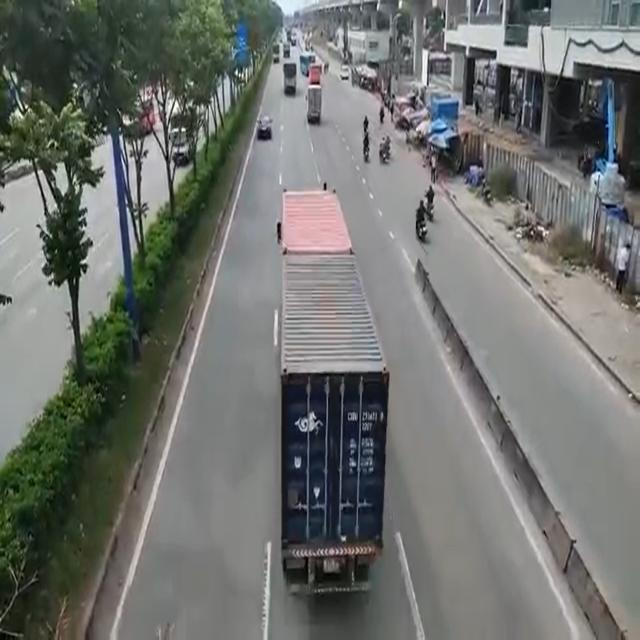car: (262, 108, 272, 134)
truck: (279, 181, 385, 604), (281, 62, 298, 94), (306, 88, 322, 120)
